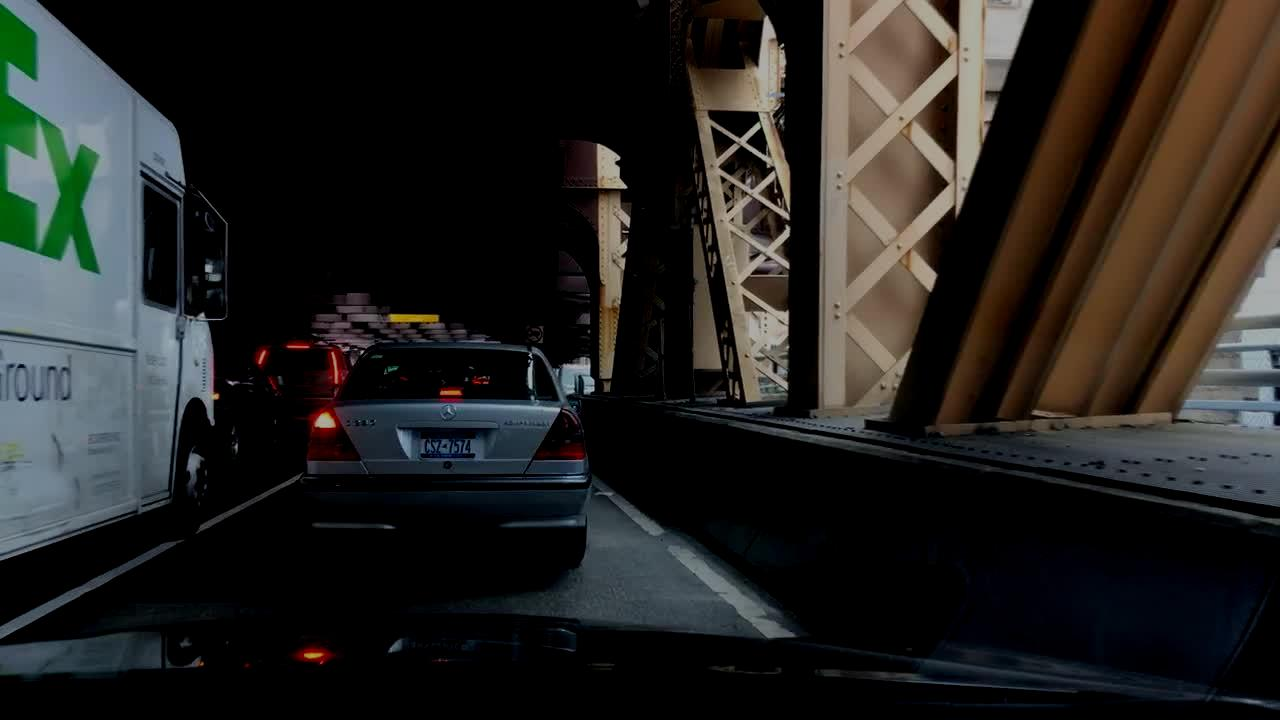Mercedes: (435, 400, 469, 429)
